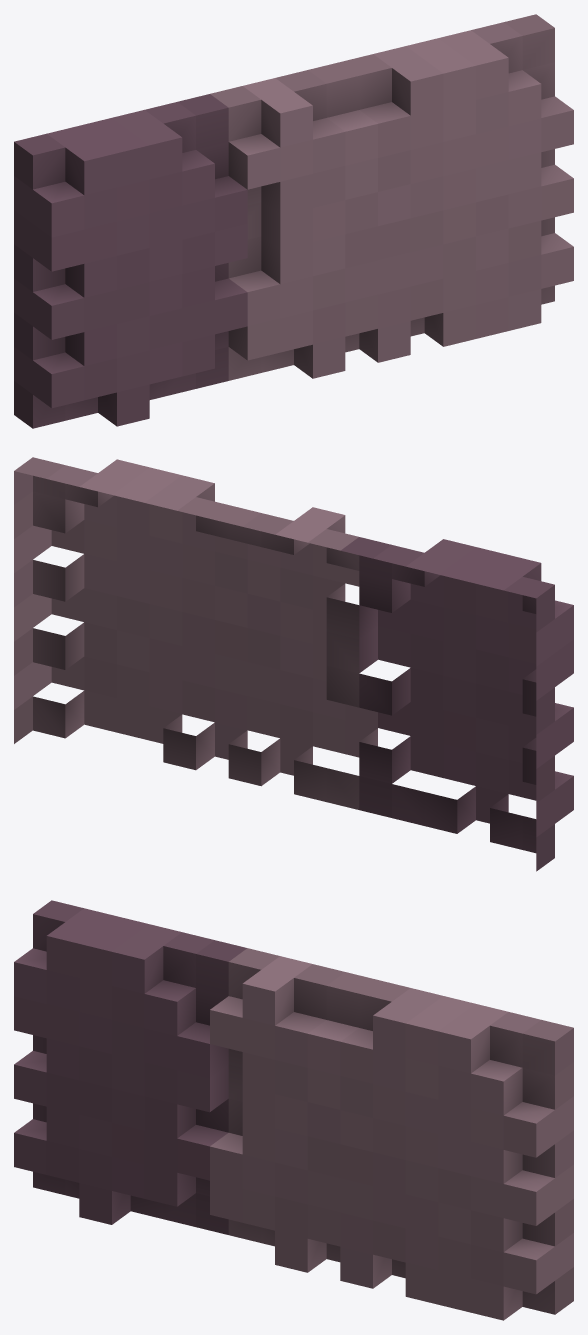
Rendered from ashlar_plain_3.glb.
3 renders of one model, top to bottom at view 1: azimuth 30°, elevation 25°; view 2: azimuth 150°, elevation 25°; view 3: azimuth 330°, elevation 25°, orthographic.
Visible parts, largest first — view 1: ashlar_plain_3; view 2: ashlar_plain_3; view 3: ashlar_plain_3.
Boxes of the visible parts, left/top/right/bottom form: ashlar_plain_3: left=14, top=14, right=573, bottom=428; ashlar_plain_3: left=14, top=457, right=573, bottom=871; ashlar_plain_3: left=14, top=900, right=573, bottom=1320.
Size of the model in its own units: 1 by 0.5 by 0.125.
